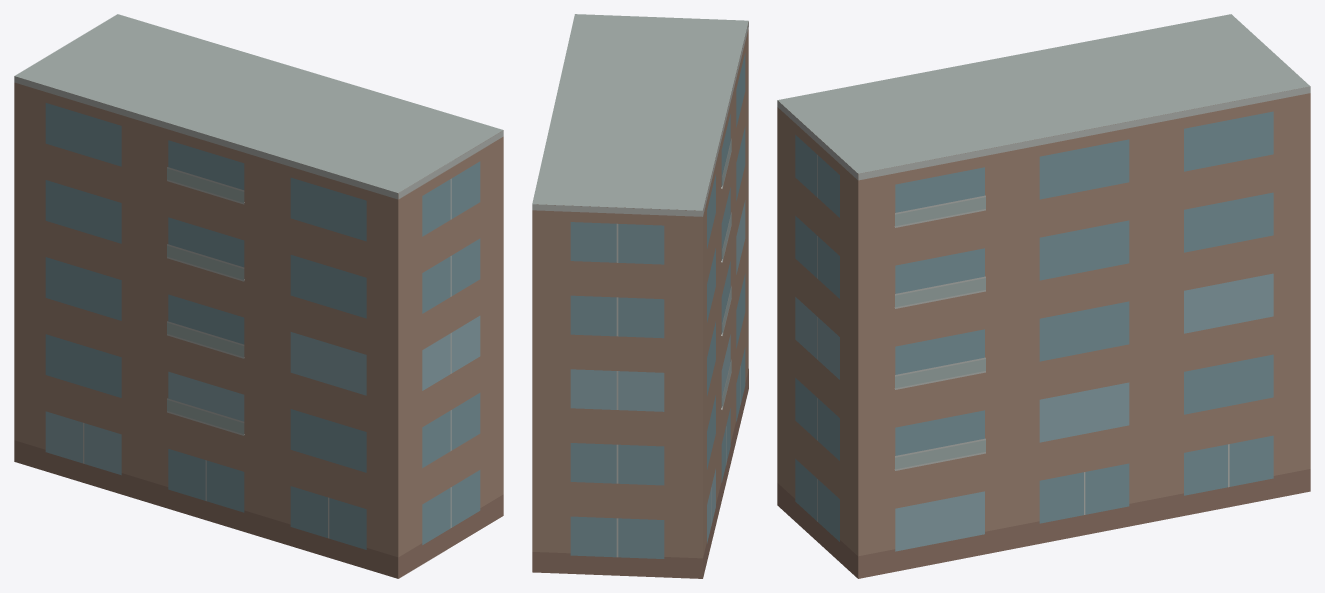
The model's file is survey-upis-32894559.glb.
The picture shows the model from 3 angles, left to right: view 1: azimuth 30°, elevation 25°; view 2: azimuth 150°, elevation 25°; view 3: azimuth 270°, elevation 25°; orthographic projection. The views are drawn at different scales.
Parts seen in each view (by area): view 1: survey-upis-32894559.tmp; view 2: survey-upis-32894559.tmp; view 3: survey-upis-32894559.tmp.
Boxes of the visible parts, box(x1,y1,x2,y2) form: survey-upis-32894559.tmp: box(14, 14, 503, 578); survey-upis-32894559.tmp: box(532, 14, 748, 578); survey-upis-32894559.tmp: box(777, 14, 1310, 578).
Bounding box in the file's own units: 12.44 × 14.7 × 17.54.
